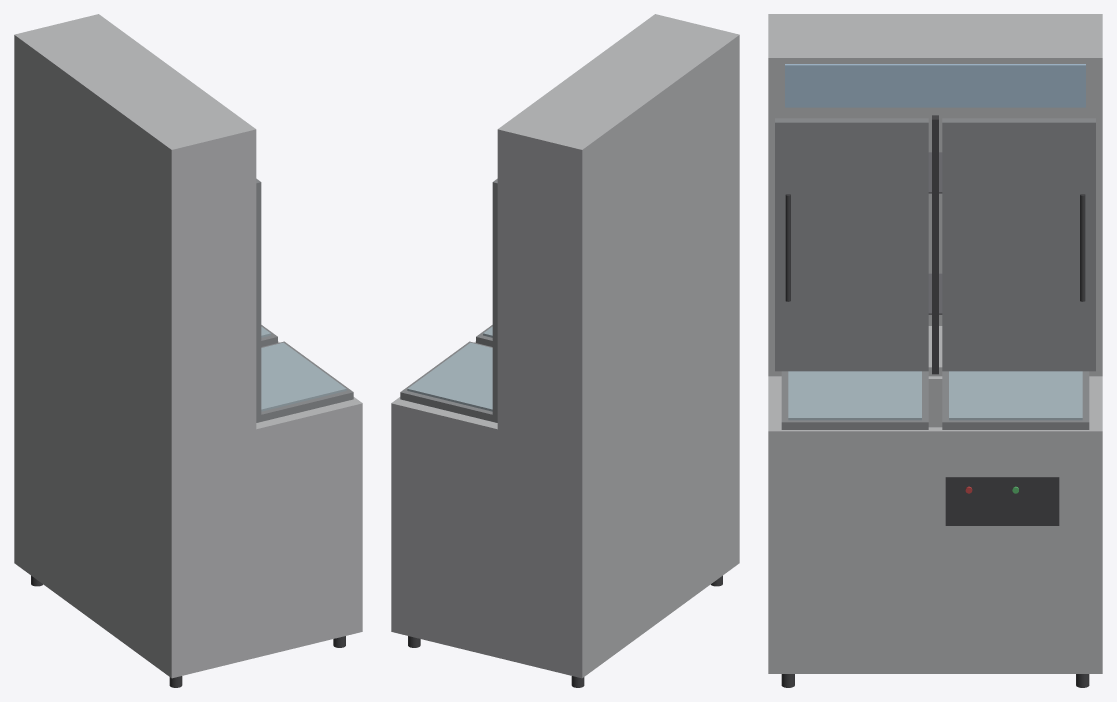
File: appearance.glb
3 views of the same model, side by side, from view 1: azimuth 30°, elevation 25°; view 2: azimuth 150°, elevation 25°; view 3: azimuth 270°, elevation 25° (orthographic). The views are drawn at different scales.
Parts seen in each view (by area): view 1: visual_0_0, visual_2_0, visual_7_0; view 2: visual_0_0, visual_1_0, visual_6_0; view 3: visual_0_0, visual_6_0, visual_7_0, visual_1_0, visual_2_0.
Part boxes in pixels (box(x1,y1,x2,y2)): visual_0_0: box(14, 14, 362, 687); visual_2_0: box(256, 341, 353, 422); visual_7_0: box(256, 178, 261, 417); visual_0_0: box(391, 14, 739, 687); visual_1_0: box(400, 341, 497, 422); visual_6_0: box(492, 178, 497, 417); visual_0_0: box(768, 14, 1102, 687); visual_6_0: box(942, 118, 1095, 371); visual_7_0: box(775, 118, 928, 371); visual_1_0: box(942, 371, 1089, 429); visual_2_0: box(781, 371, 928, 429).
Bounding box in the file's own units: 0.711 × 1.91 × 1.
